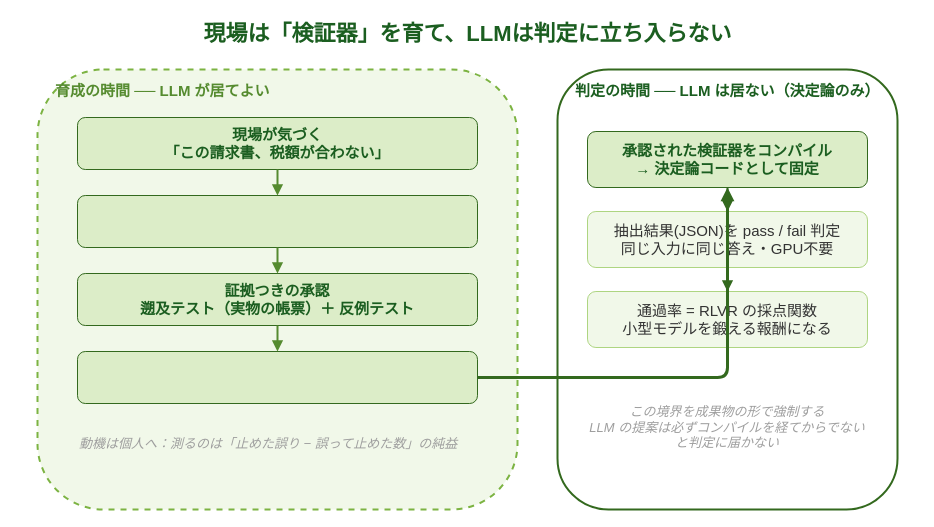
This 934x527 diagram has some shape labels left out. Each missing label, with the centre of its shape:
LLM が検証ルールを提案 （自由文でなく構造化された小さな差分）: [277,221]
検証器スイートに追加 （自分を検証するテストを連れて歩く）: [277,377]
